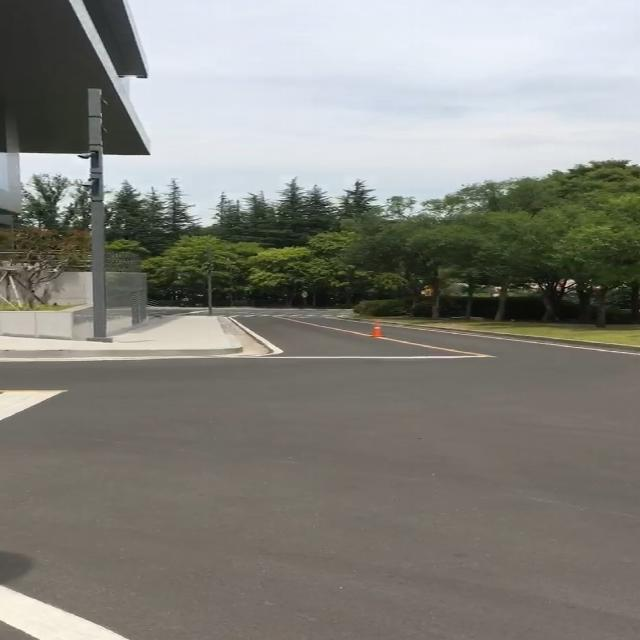obstacle: (371, 322, 388, 338)
road: (0, 314, 640, 640)
sidewalk: (0, 315, 242, 351)
